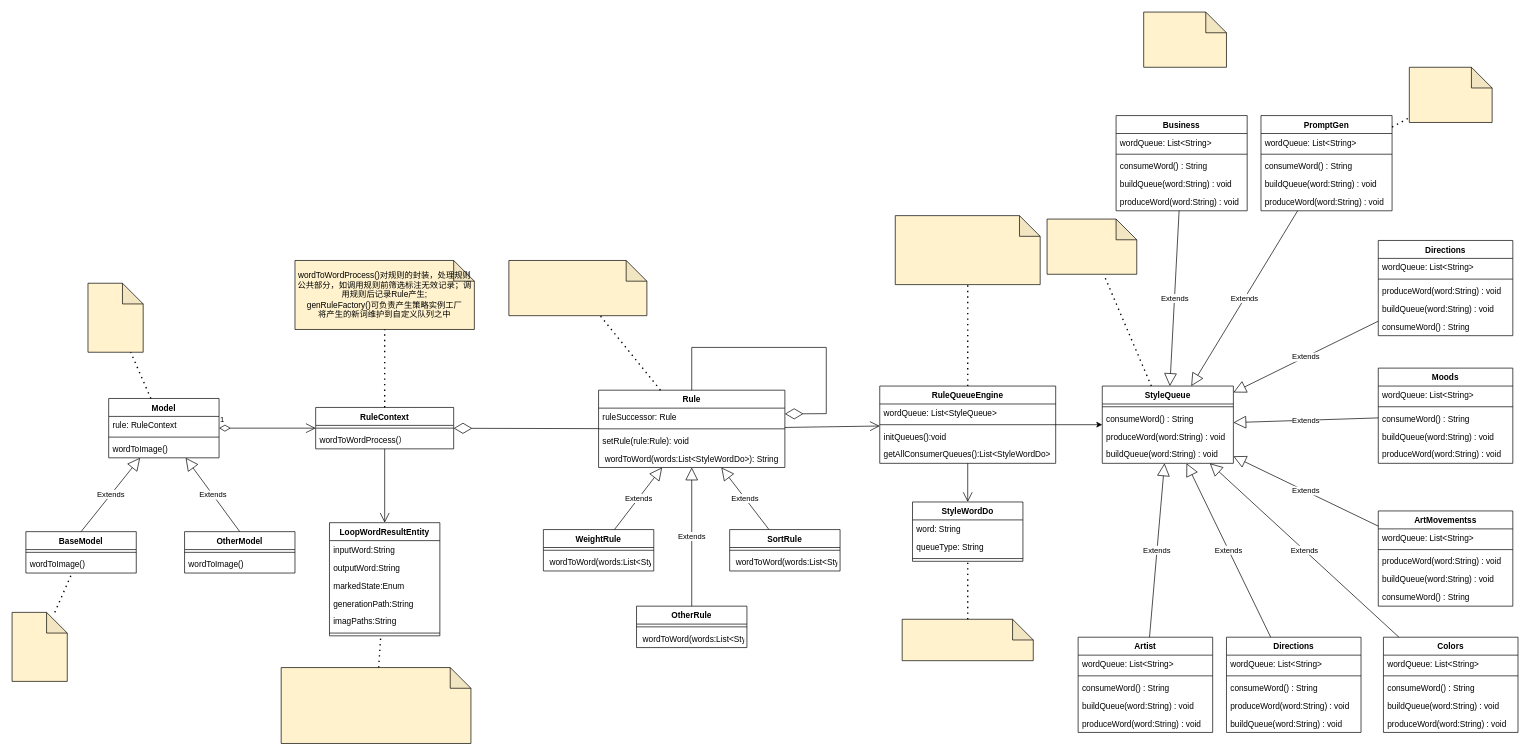
This 1530x756 diagram has some shape labels left out. Here are the shapes that lost their labels. From the top down, the centre of each, then its label:
At point 1184,39: "业务队列".
At point 1450,94: "consumeWord()自维护自己的queue队列".
At point 967,250: "initQueues()负责调用RuleQueue各个子类的buildQueue consumerQueues()负责获取各个对象的词".
At point 1091,246: "规则队列抽象 consumerWord()消费队列中的值，可消费后重塞入队列中".
At point 577,288: "通过责任连模式，构建词的最终组合".
At point 115,317: "不同模型".
At point 39,646: "基础模型".
At point 967,640: "消费的词和对应style组成的DO".
At point 375,705: "迭代生成词的记录实体，记录词的状态和结果 一个输入词可产生多条记录 markedState:init、image、note_good、node_bad".
